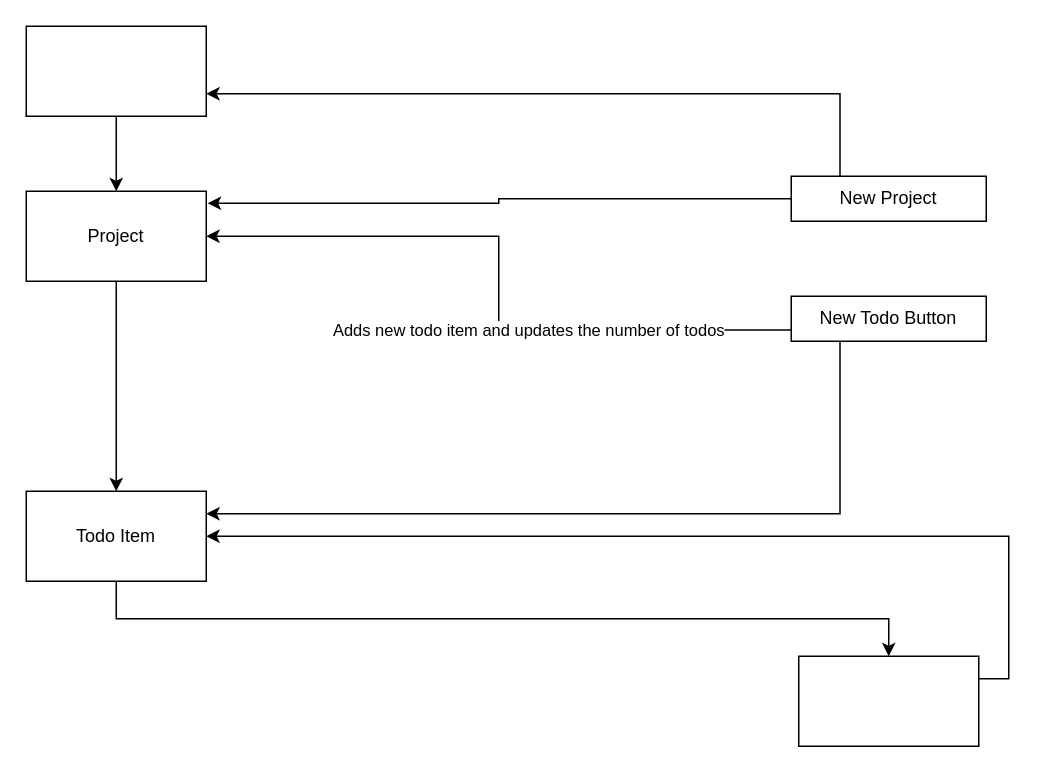
Some shapes in this 1047 by 773 pixel diagram are drawn without their labels. The centre of each missing label's shape, as x and y in pixels:
"Project List" belongs at [115,70].
"Sidebar" belongs at [888,700].
